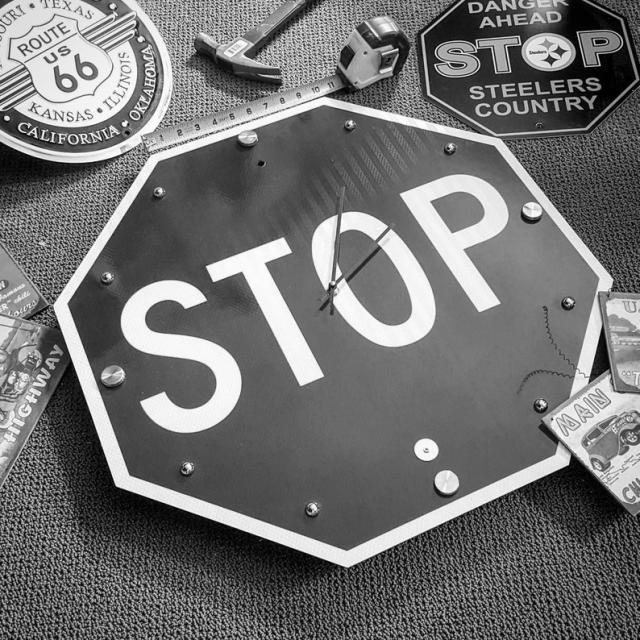Stop-sign: (39, 93, 619, 587)
